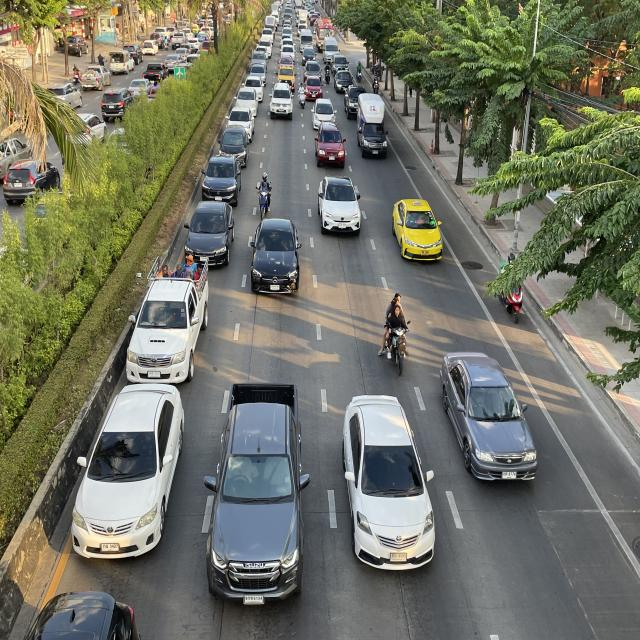bike: (389, 195, 446, 267), (377, 292, 414, 378), (496, 250, 526, 322), (255, 167, 272, 219)
car: (204, 376, 312, 612), (68, 382, 188, 564), (340, 390, 435, 572), (439, 348, 540, 488), (249, 216, 303, 300), (183, 196, 233, 271), (316, 172, 364, 242), (200, 150, 242, 206), (316, 120, 346, 168), (270, 79, 294, 120)
truck: (122, 253, 212, 383), (358, 91, 390, 160)
